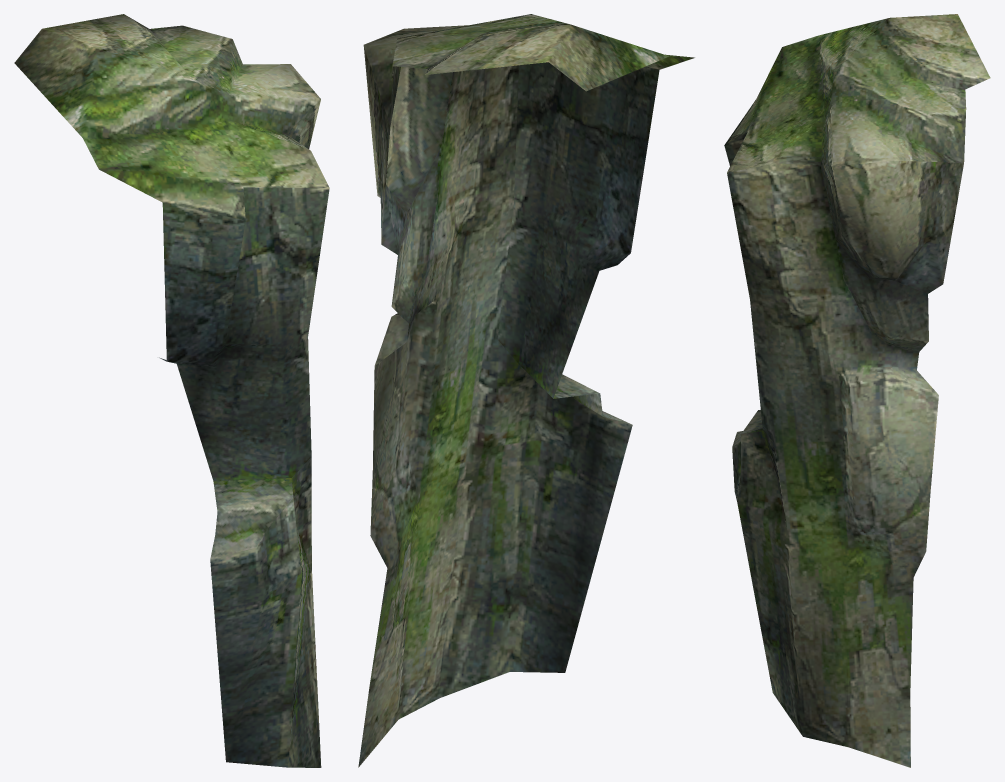
File: S_Rock_Green047_1060_11.fbx
3 views of the same model, side by side, from view 1: azimuth 30°, elevation 25°; view 2: azimuth 150°, elevation 25°; view 3: azimuth 270°, elevation 25° (orthographic). The views are drawn at different scales.
Parts seen in each view (by area): view 1: S_Rock_Green047_1060_11; view 2: S_Rock_Green047_1060_11; view 3: S_Rock_Green047_1060_11.
Boxes of the visible parts, x1,y1,x2,y2 form: S_Rock_Green047_1060_11: [14, 14, 329, 767]; S_Rock_Green047_1060_11: [358, 14, 694, 767]; S_Rock_Green047_1060_11: [724, 14, 990, 767].
Size of the model in its own units: 777 by 2187 by 792.
Materials: 1 (1 with a texture image).
